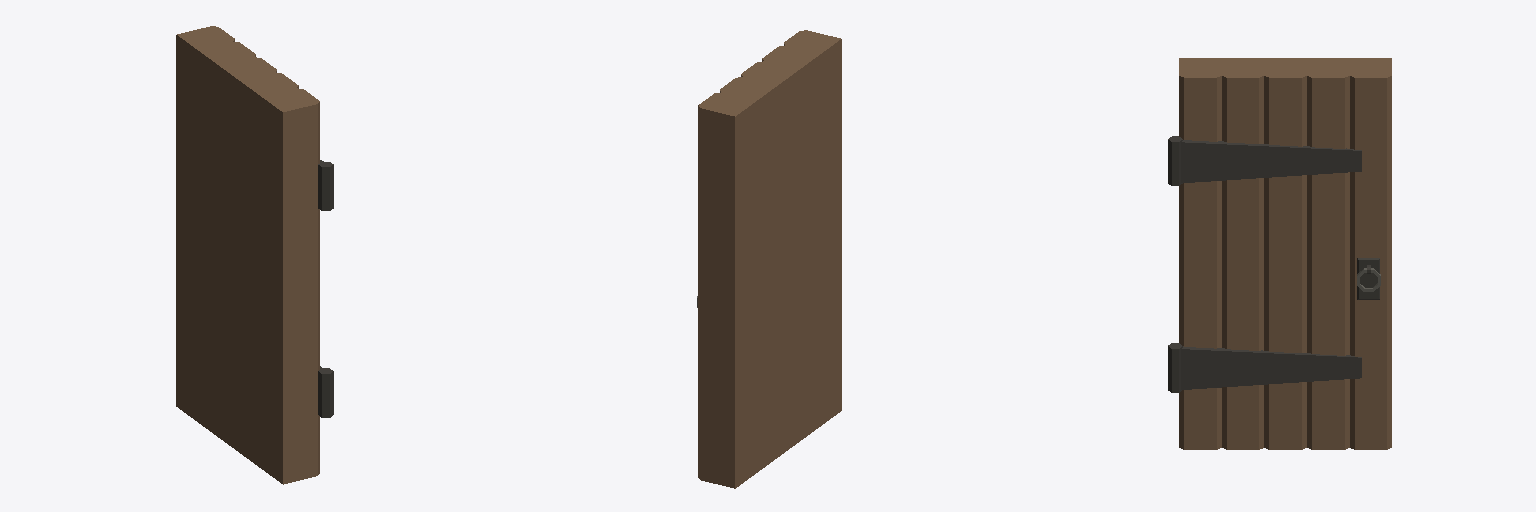
Rendered from doa.obj.
3 views of the same model, side by side, from view 1: azimuth 30°, elevation 25°; view 2: azimuth 150°, elevation 25°; view 3: azimuth 270°, elevation 25° (orthographic).
Parts seen in each view (by area): view 1: group4 Wall_Prop_Door_Simple:object4, group4 Wall_Prop_Door_Simple:object2, group4 Wall_Prop_Door_Simple:object1; view 2: group4 Wall_Prop_Door_Simple:object4; view 3: group4 Wall_Prop_Door_Simple:object4, group4 Wall_Prop_Door_Simple:object2, group4 Wall_Prop_Door_Simple:object1, group4 Wall_Prop_Door_Simple:object3.
Part boxes in pixels (x1,y1,x2,y2): group4 Wall_Prop_Door_Simple:object4: (176,26,319,484); group4 Wall_Prop_Door_Simple:object2: (318,366,333,417); group4 Wall_Prop_Door_Simple:object1: (318,160,333,210); group4 Wall_Prop_Door_Simple:object4: (698,30,841,488); group4 Wall_Prop_Door_Simple:object4: (1179,58,1391,449); group4 Wall_Prop_Door_Simple:object2: (1168,343,1361,392); group4 Wall_Prop_Door_Simple:object1: (1168,136,1361,185); group4 Wall_Prop_Door_Simple:object3: (1357,258,1379,299).
Size of the model in its own units: 0.1779 by 1.35 by 0.7375.